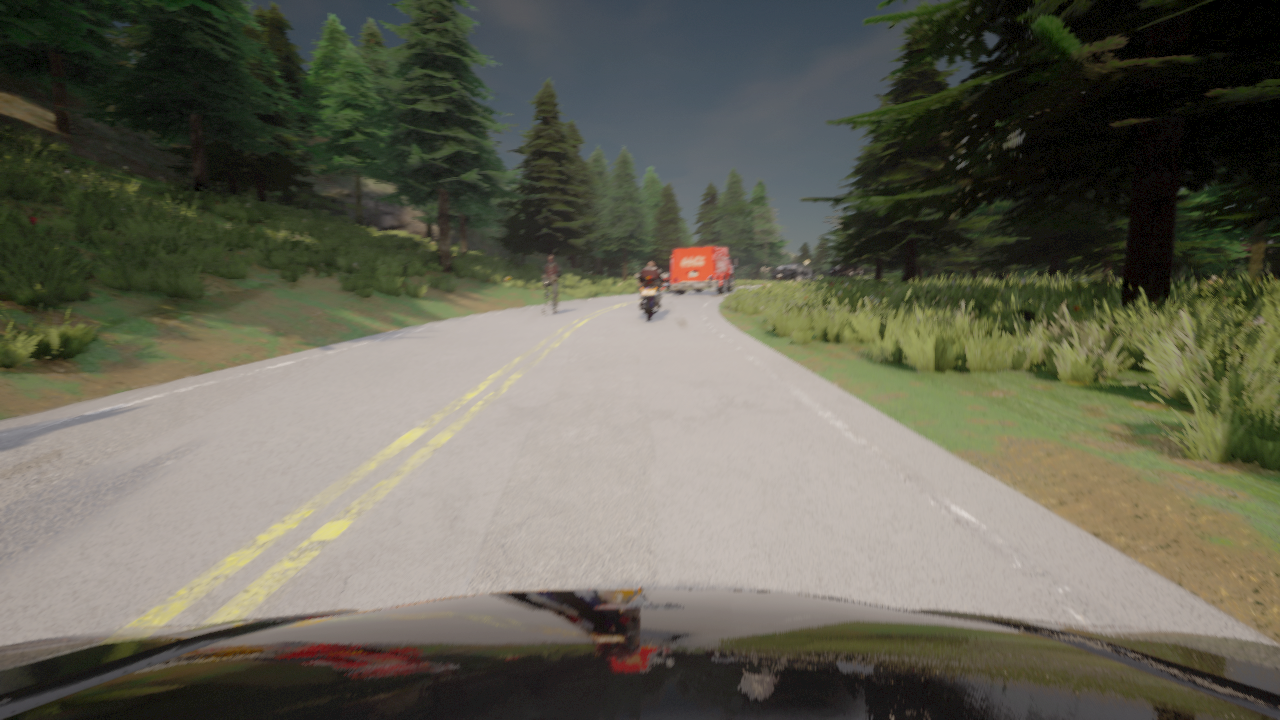cyclist: (0, 588, 1279, 719), (671, 246, 737, 294), (636, 273, 667, 321), (771, 261, 816, 281), (661, 272, 693, 292), (829, 258, 862, 276), (544, 277, 558, 315)
